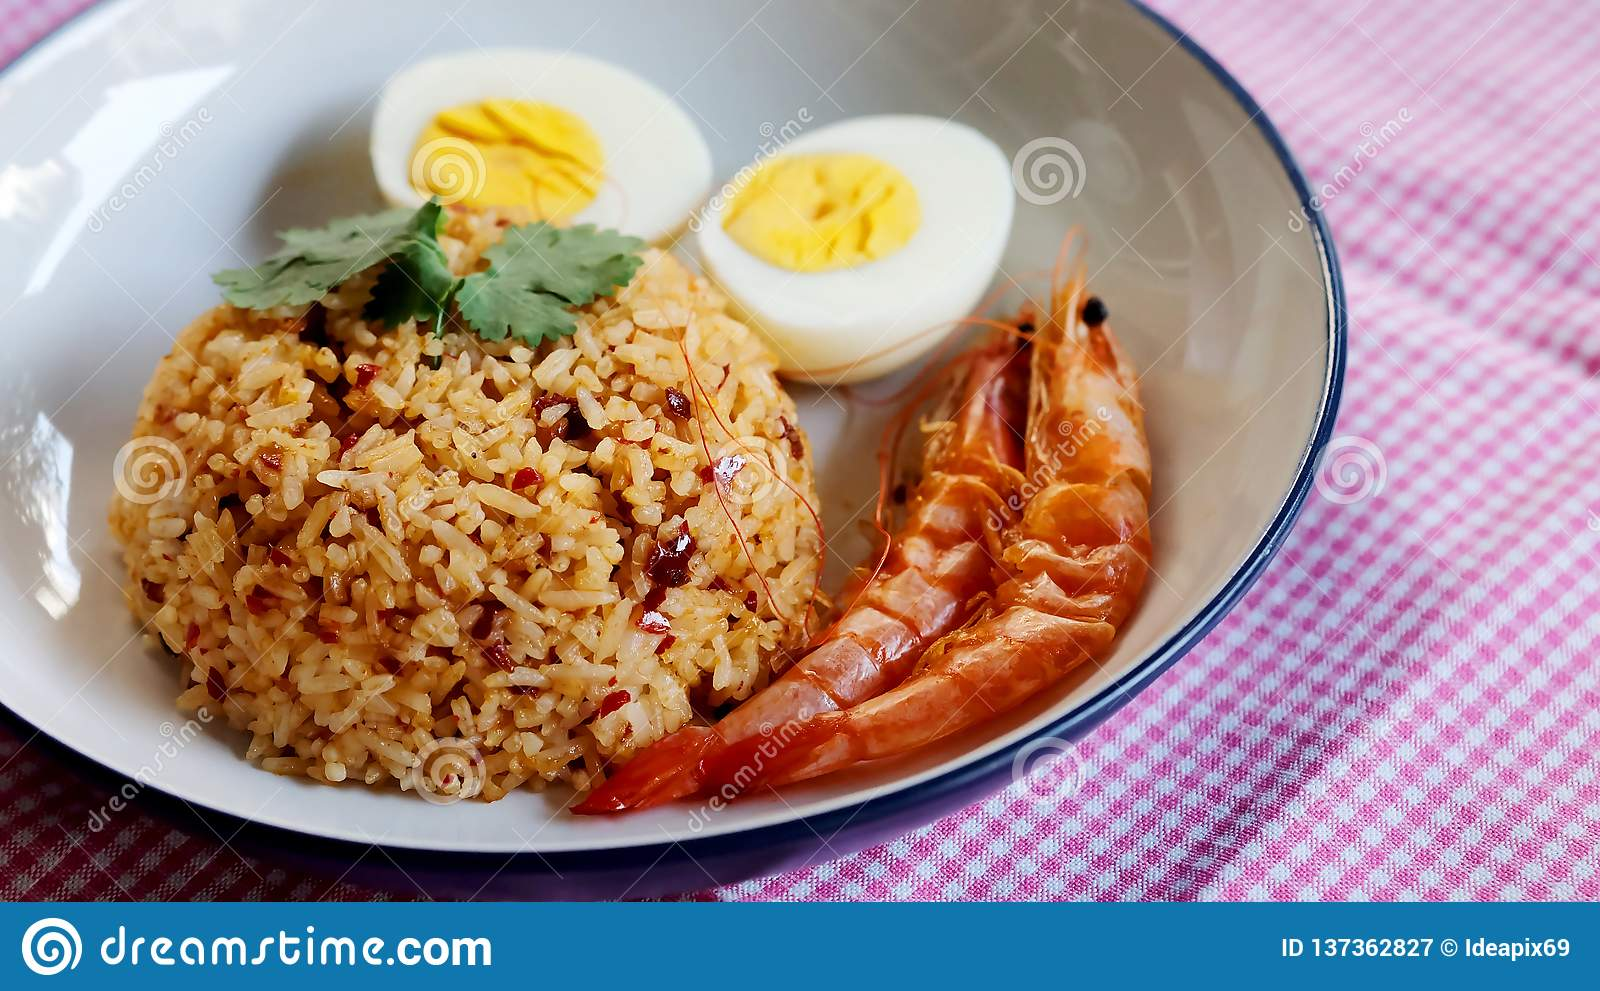egg: (362, 15, 738, 272), (693, 113, 1069, 370)
rice: (159, 282, 775, 775)
